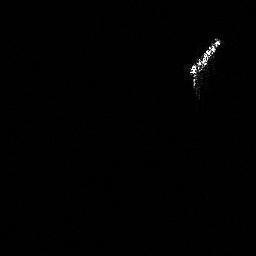ship: (184, 36, 230, 88)
